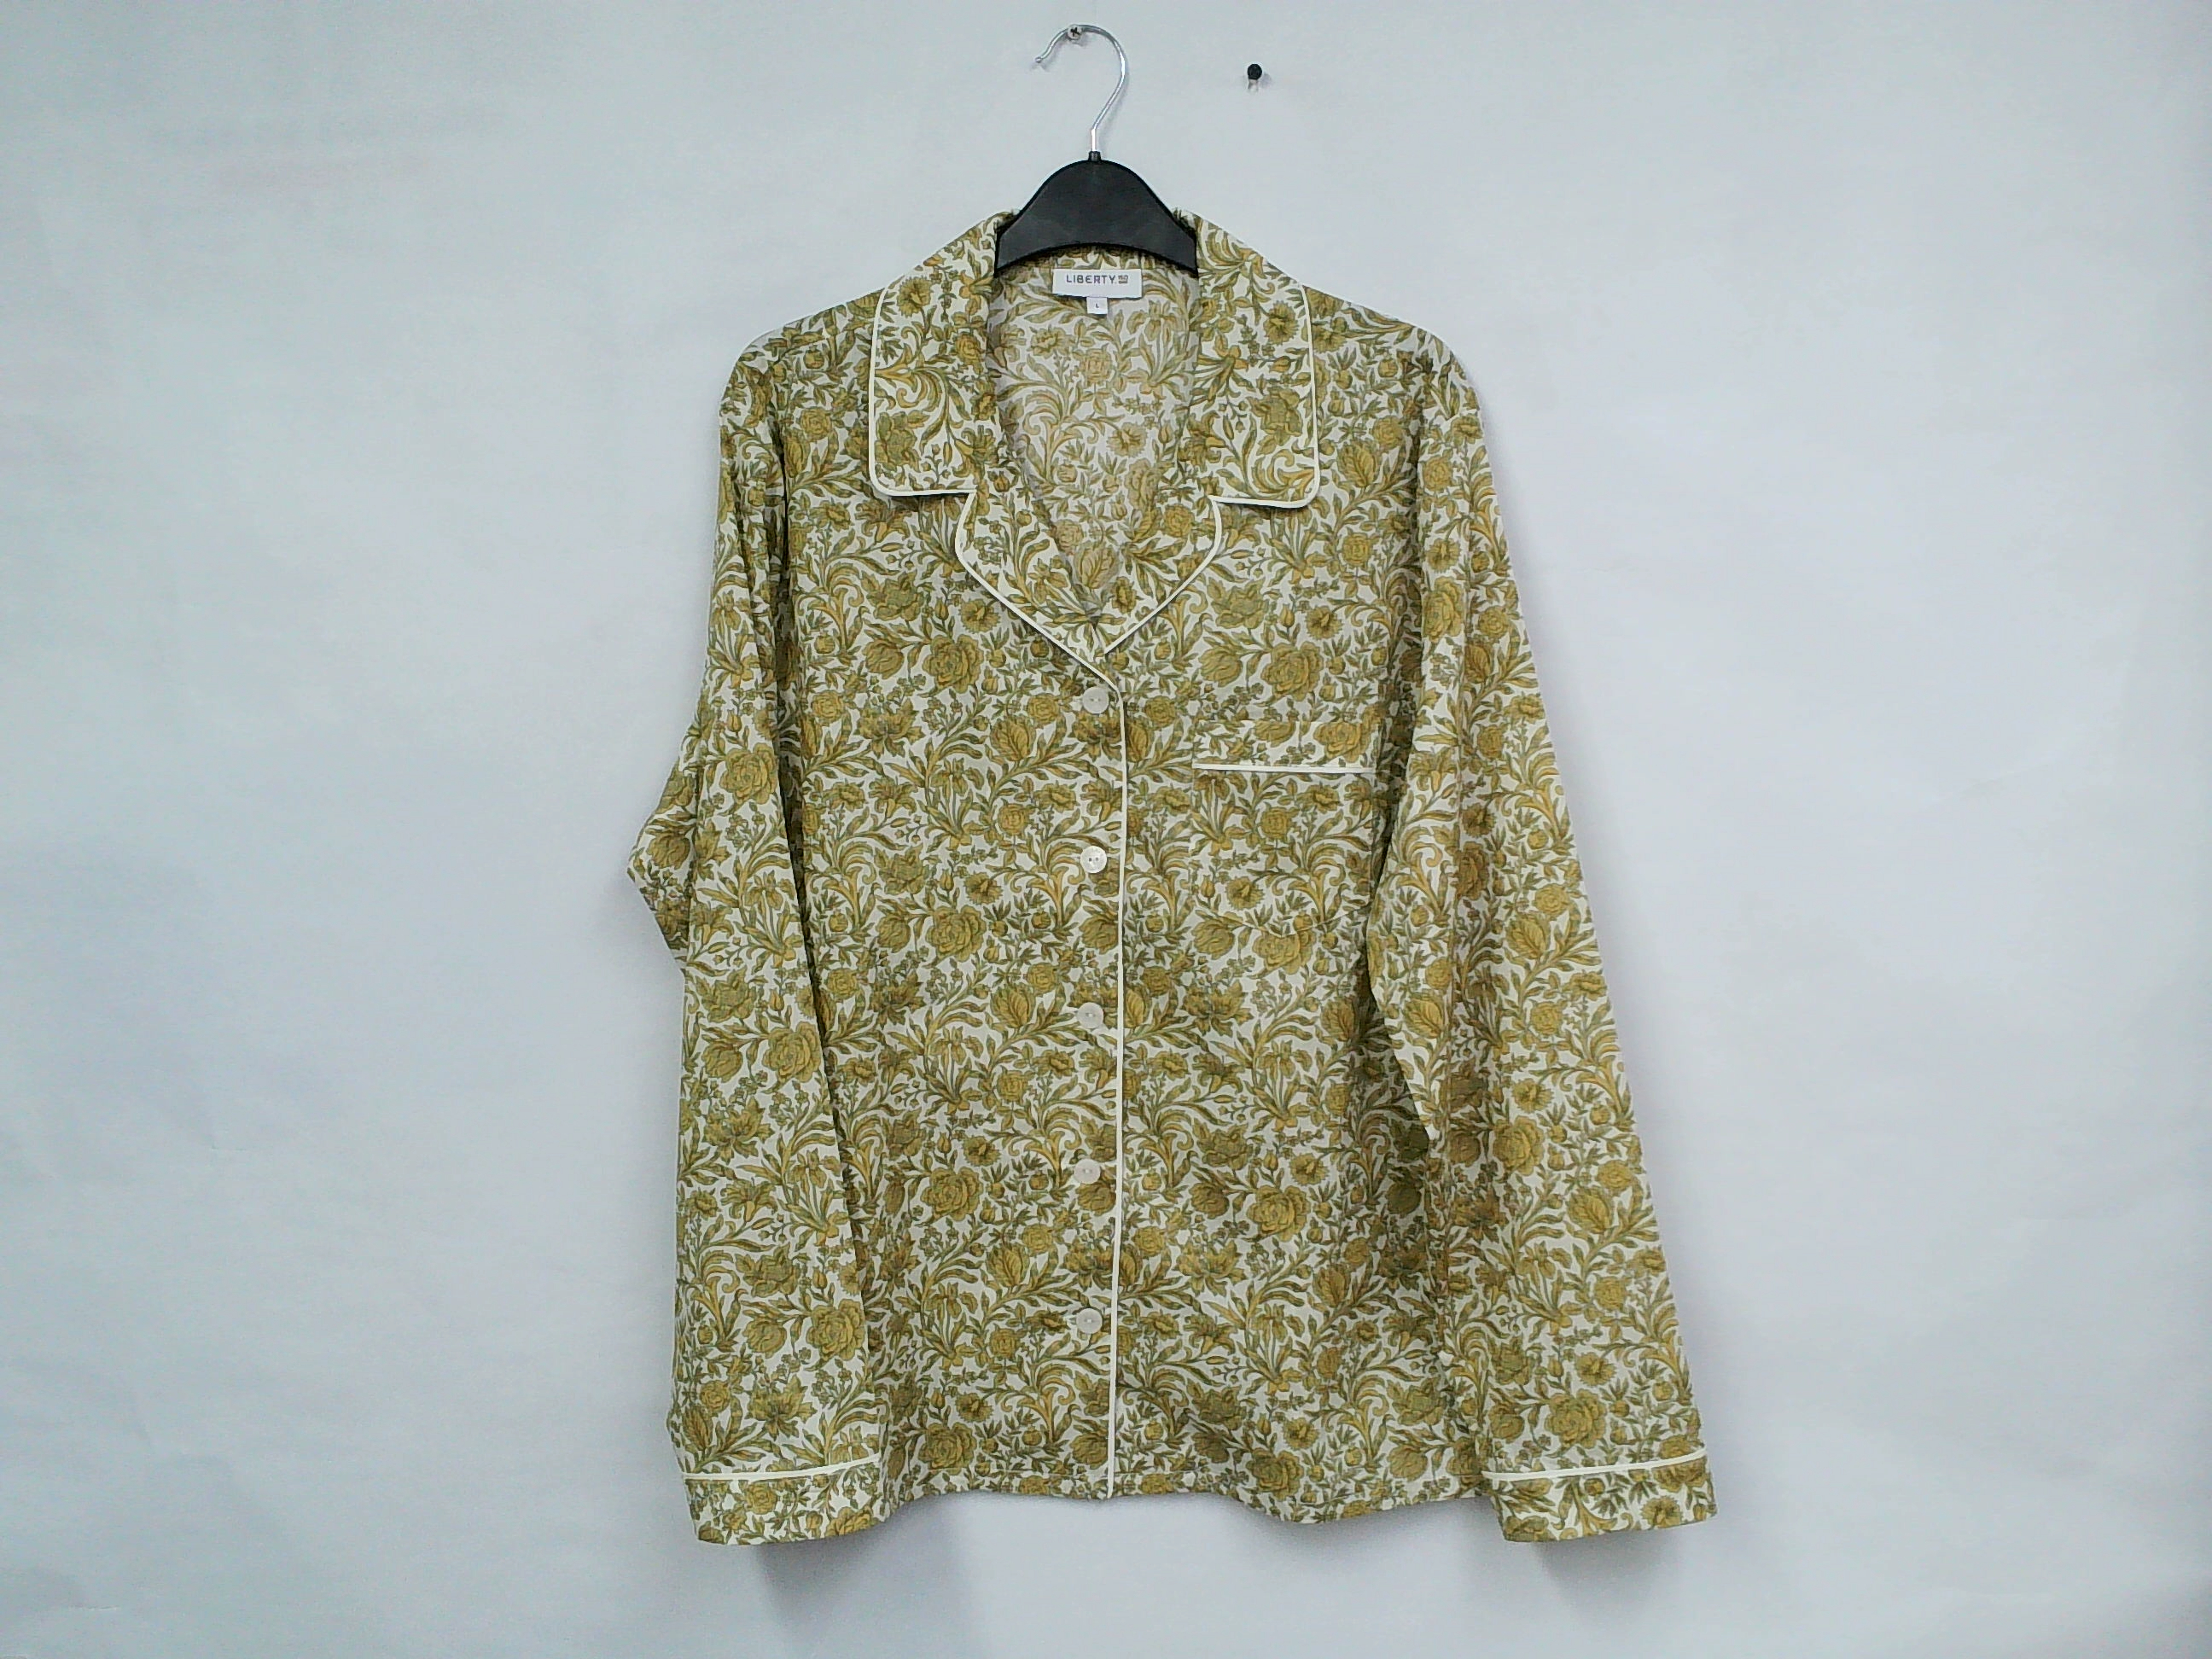seam: (1474, 1431, 1712, 1500), (674, 1438, 899, 1504)
